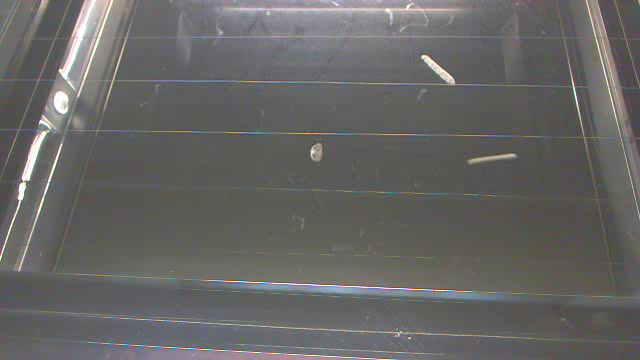alpha: (419, 51, 459, 87), (465, 148, 519, 168), (307, 138, 326, 164)
